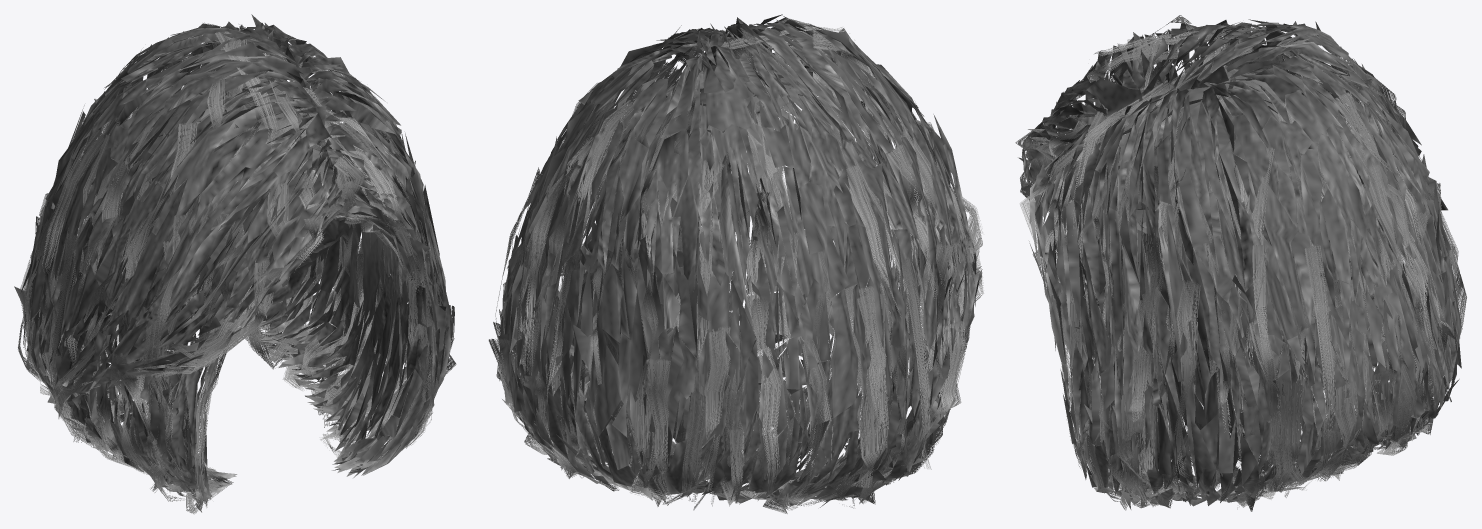
Rendered from hair_bob.glb.
3 renders of one model, left to right at view 1: azimuth 30°, elevation 25°; view 2: azimuth 150°, elevation 25°; view 3: azimuth 270°, elevation 25°, orthographic. The views are drawn at different scales.
Parts seen in each view (by area): view 1: Mesh_0, haircards; view 2: Mesh_0, haircards; view 3: Mesh_0, haircards.
Part boxes in pixels (x1=…): Mesh_0: x1=14, y1=14, x2=453, y2=501; haircards: x1=18, y1=31, x2=456, y2=514; Mesh_0: x1=498, y1=14, x2=982, y2=507; haircards: x1=488, y1=18, x2=983, y2=513; Mesh_0: x1=1021, y1=19, x2=1461, y2=509; haircards: x1=1015, y1=15, x2=1466, y2=511.
Size of the model in its own units: 0.2422 by 0.262 by 0.2399.
Materials: 2 (2 with a texture image).
